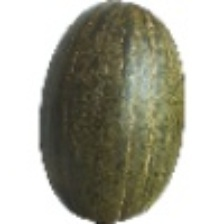honeydew: (17, 29, 210, 224)
